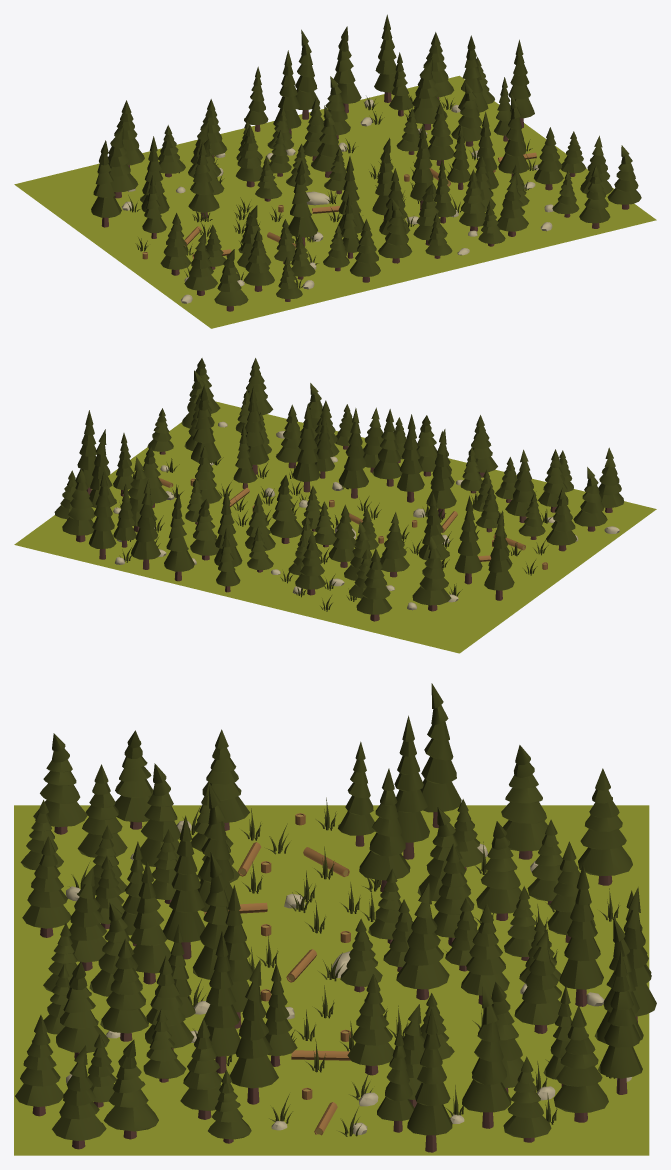
The model's file is low_poly_forest_4.glb.
The picture shows the model from 3 angles, top to bottom: view 1: azimuth 30°, elevation 25°; view 2: azimuth 150°, elevation 25°; view 3: azimuth 270°, elevation 25°; orthographic projection. The views are drawn at different scales.
Parts seen in each view (by area): view 1: Object_3, Object_4, Object_2; view 2: Object_3, Object_4, Object_2; view 3: Object_3, Object_4, Object_2.
Boxes of the visible parts, <box> form: Object_3: <box>14,39,656,328</box>; Object_4: <box>97,14,632,288</box>; Object_2: <box>101,96,535,287</box>; Object_3: <box>14,374,656,653</box>; Object_4: <box>60,358,615,609</box>; Object_2: <box>116,459,548,611</box>; Object_3: <box>14,738,656,1155</box>; Object_4: <box>32,683,645,1134</box>; Object_2: <box>69,809,637,1136</box>.
Size of the model in its own units: 26.39 by 5.07 by 20.26.
1 material, 1 textured.
